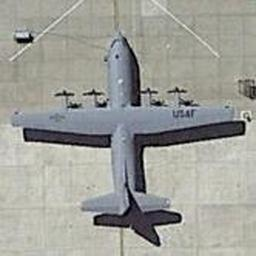Airplane: (9, 26, 252, 247)
